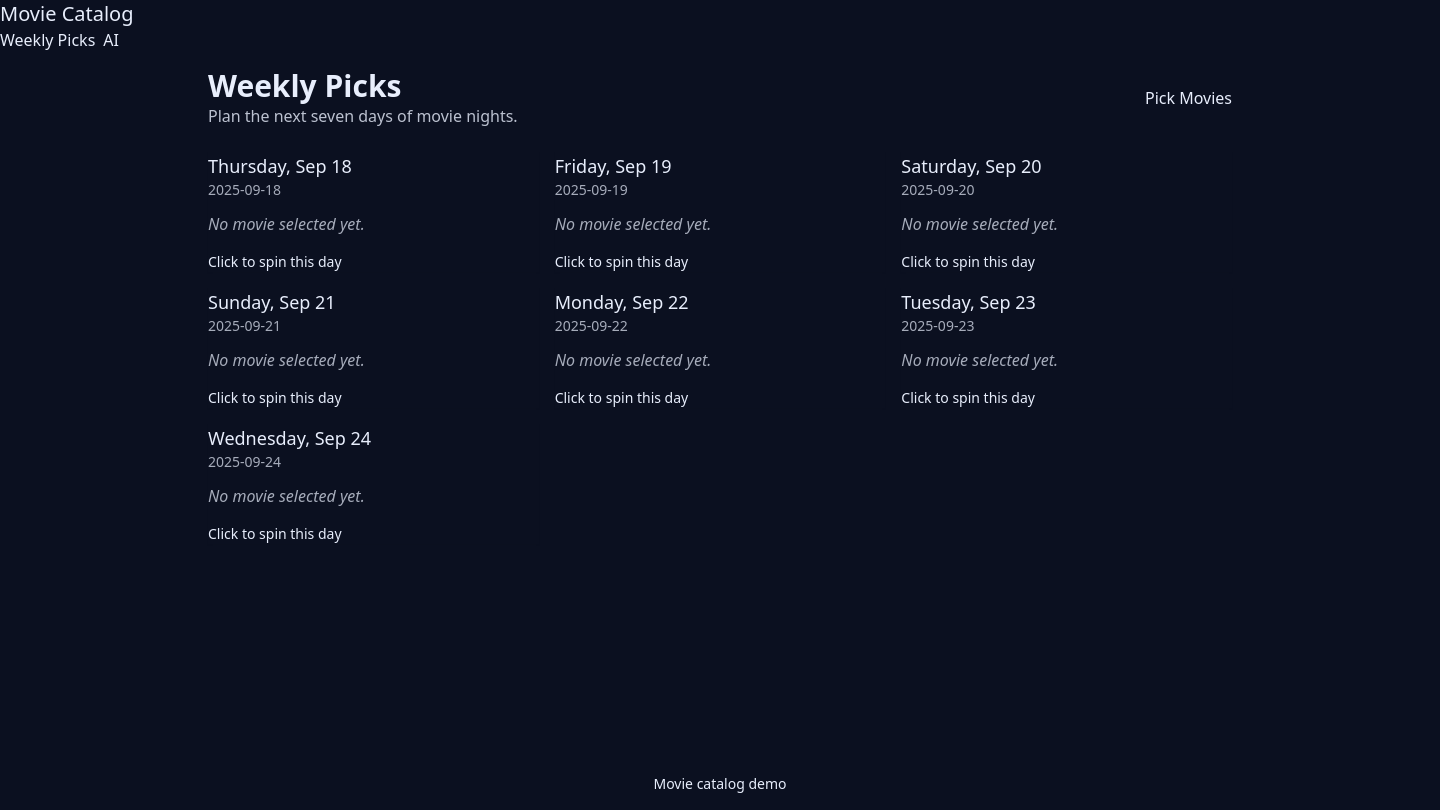
Test case: WeeklyPicks memory logic › spins a single day without repeating previously seen movies
The width and height of the screenshot is (1440, 810).
Click the button "Pick Movies".
click(1188, 98)  # box [1145,86,1232,110]
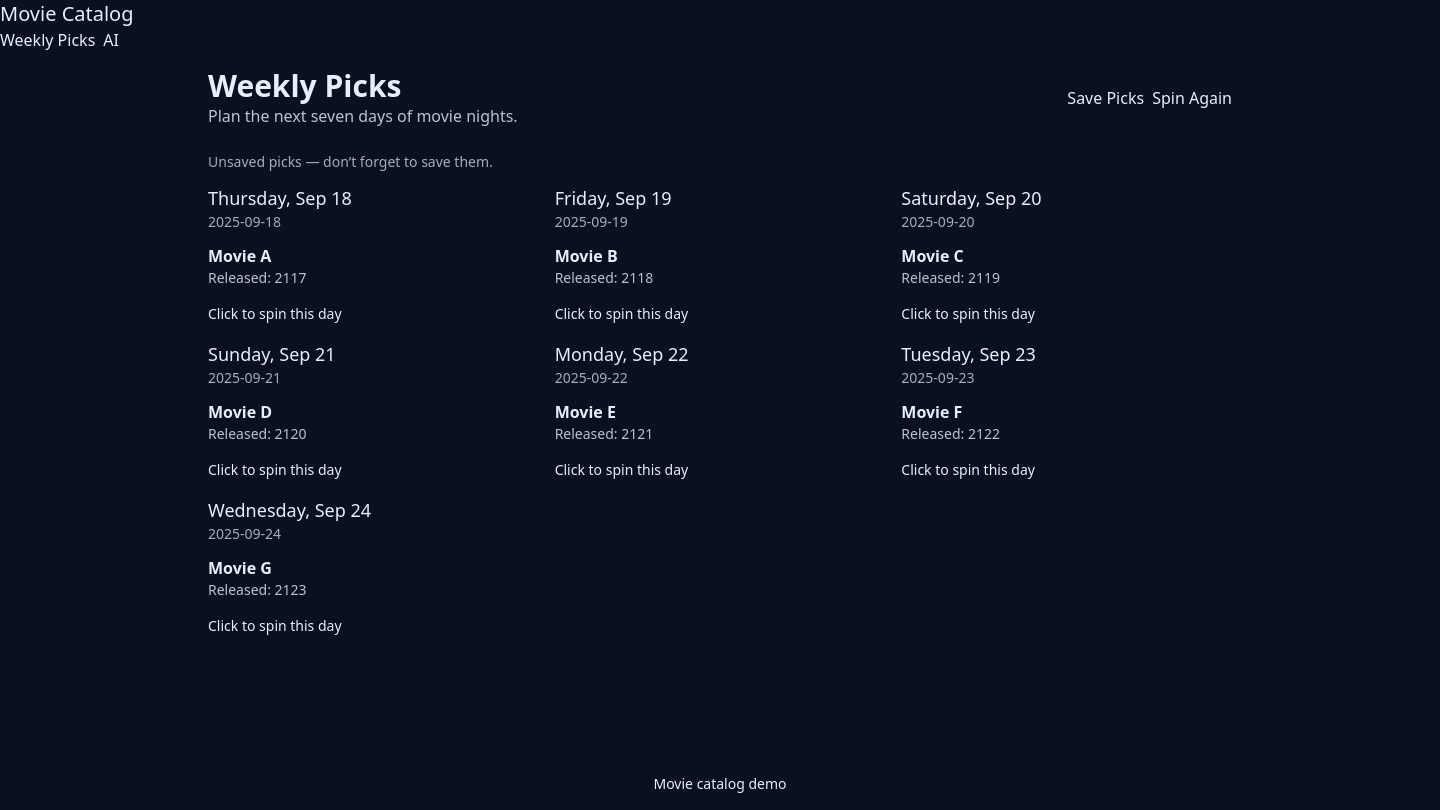
Click the button "Click to spin this day".
click(280, 198)  # box [208,184,539,324]
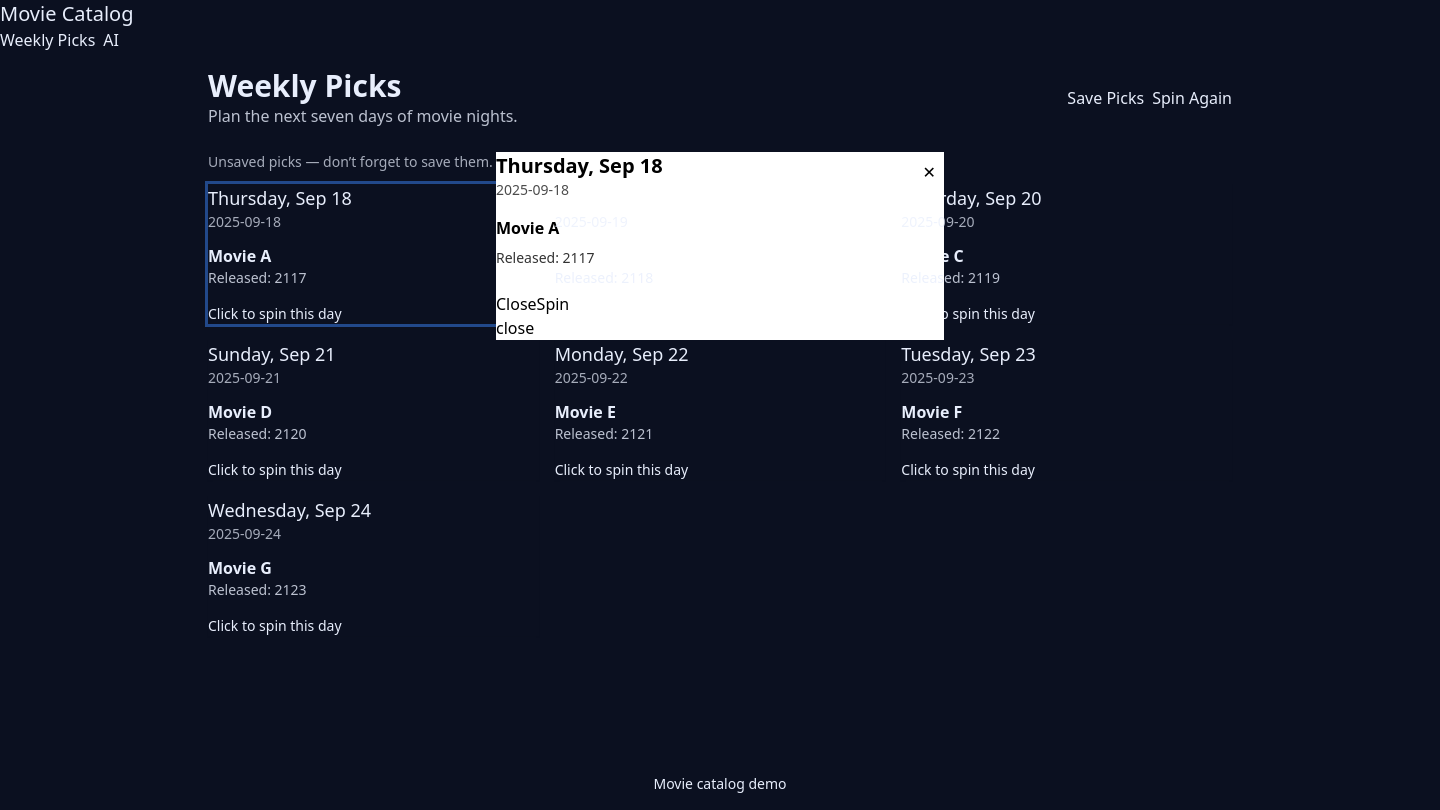
Click the button "Spin".
click(553, 304)  # box [537,292,569,316]
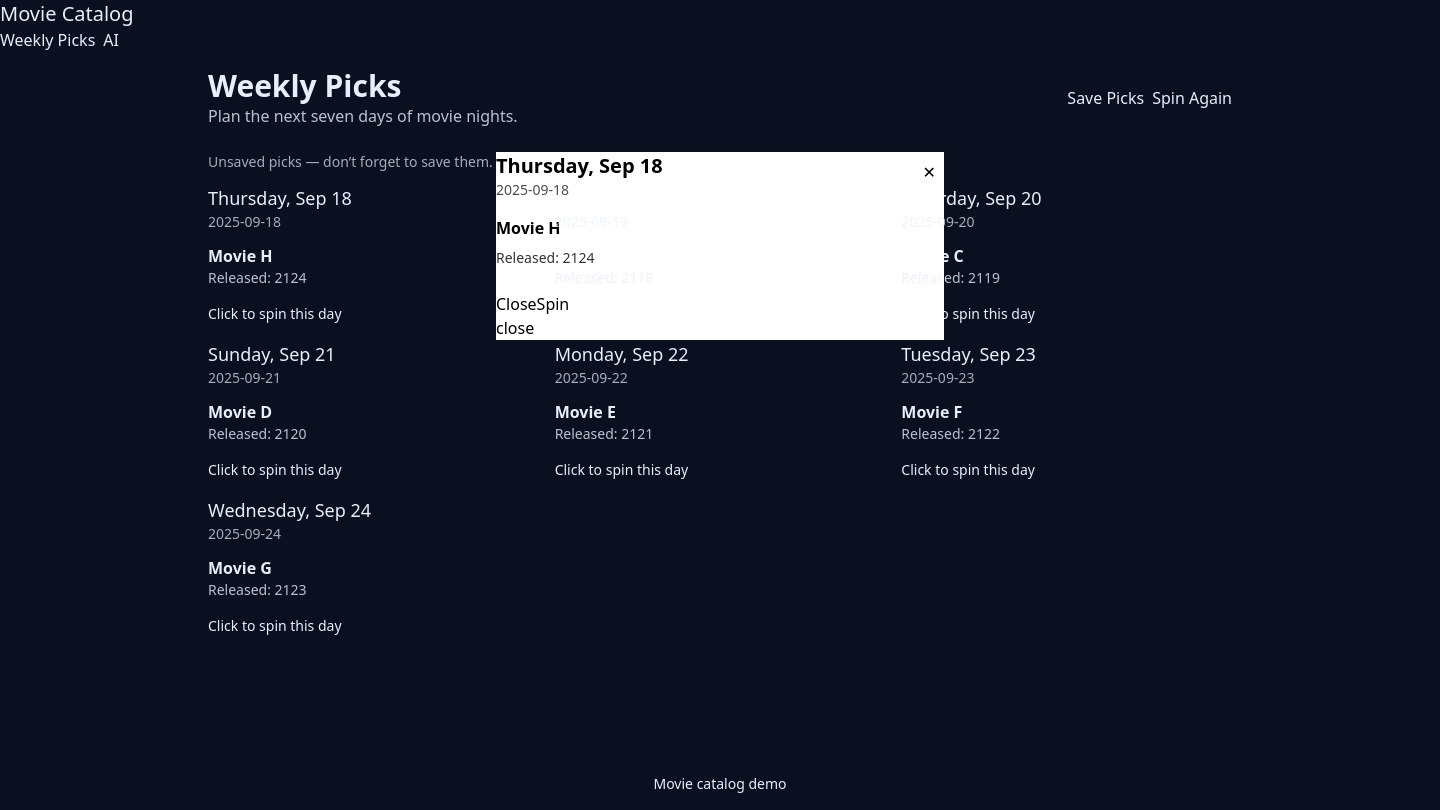
Check: the button "Click to spin this day" is shown, box [208,184,539,324]
Check: the text "Movie H" is shown, box [208,245,272,267]
Check: the text "Movie A" is gone
